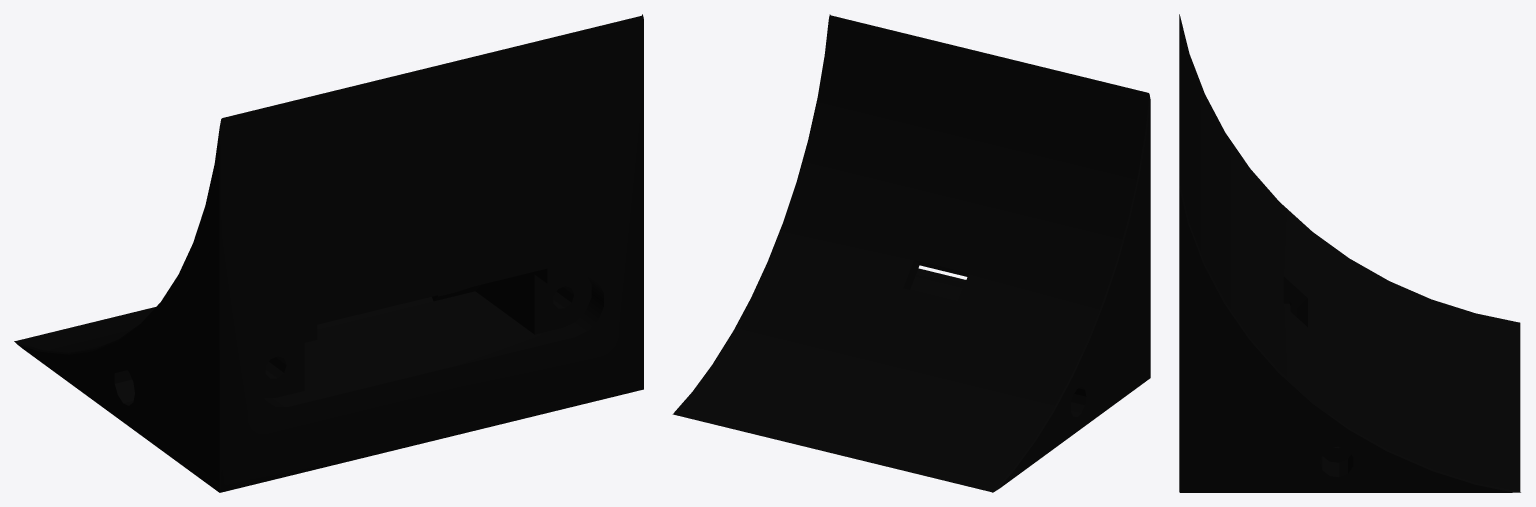
Rendered from jelob.fbx.
3 renders of one model, left to right at view 1: azimuth 30°, elevation 25°; view 2: azimuth 150°, elevation 25°; view 3: azimuth 270°, elevation 25°, orthographic. The views are drawn at different scales.
Parts seen in each view (by area): view 1: jelob.001; view 2: jelob.001; view 3: jelob.001.
Boxes of the visible parts, <box> form: jelob.001: <box>14,14,643,492</box>; jelob.001: <box>672,14,1150,492</box>; jelob.001: <box>1179,14,1520,492</box>.
Size of the model in its own units: 5.9 by 5 by 5.
Materials: 1 (1 with a texture image).
